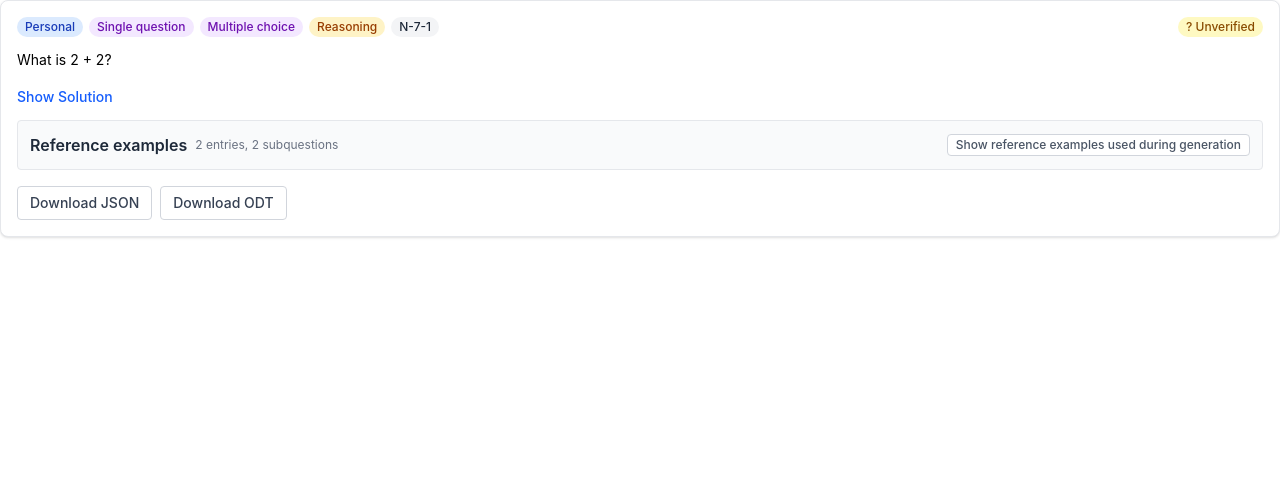
Test case: QuestionCard 參考範例紀錄 integration › re-render with two entries shows count and reveals entries on expand
This screenshot has width=1280, height=504.
Expected: the text "First example" is not shown
Click toggle to expand
What coordinates should you click on to do the following:
click the button "Show reference examples used during generation"
I would click on:
 (1098, 145)
Its box is top-left (947, 134), bottom-right (1250, 156).
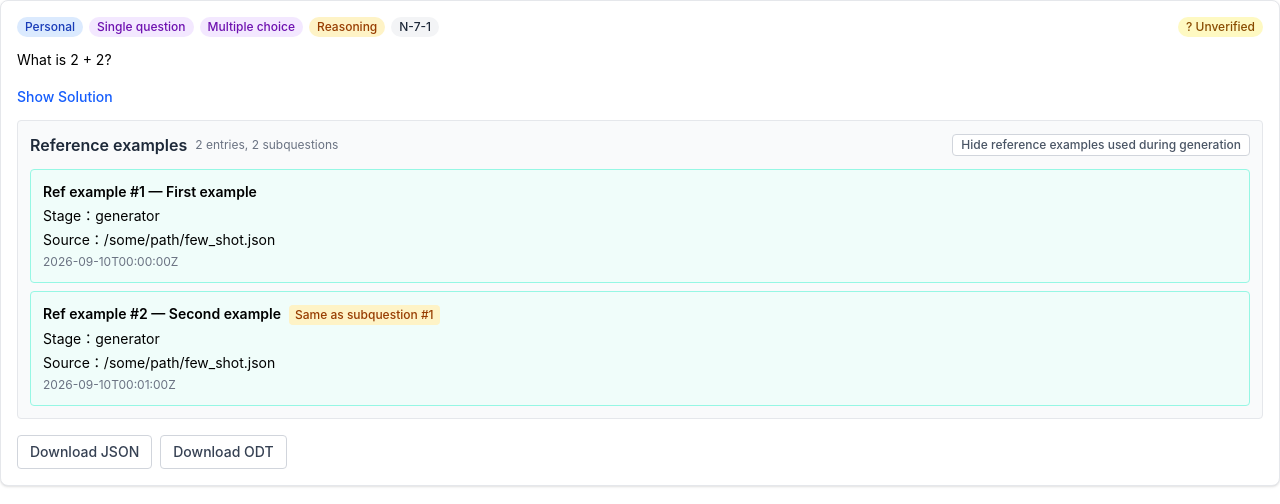
Expected: the text with test id "ref-record-counts" reads "2 entries, 2 subquestions", top-left (195, 137), bottom-right (338, 152)
Result: the text "Ref example #1 — First example" is shown at top-left (43, 182), bottom-right (257, 202)
Result: the text "Ref example #2 — Second example" is shown at top-left (43, 304), bottom-right (281, 324)
